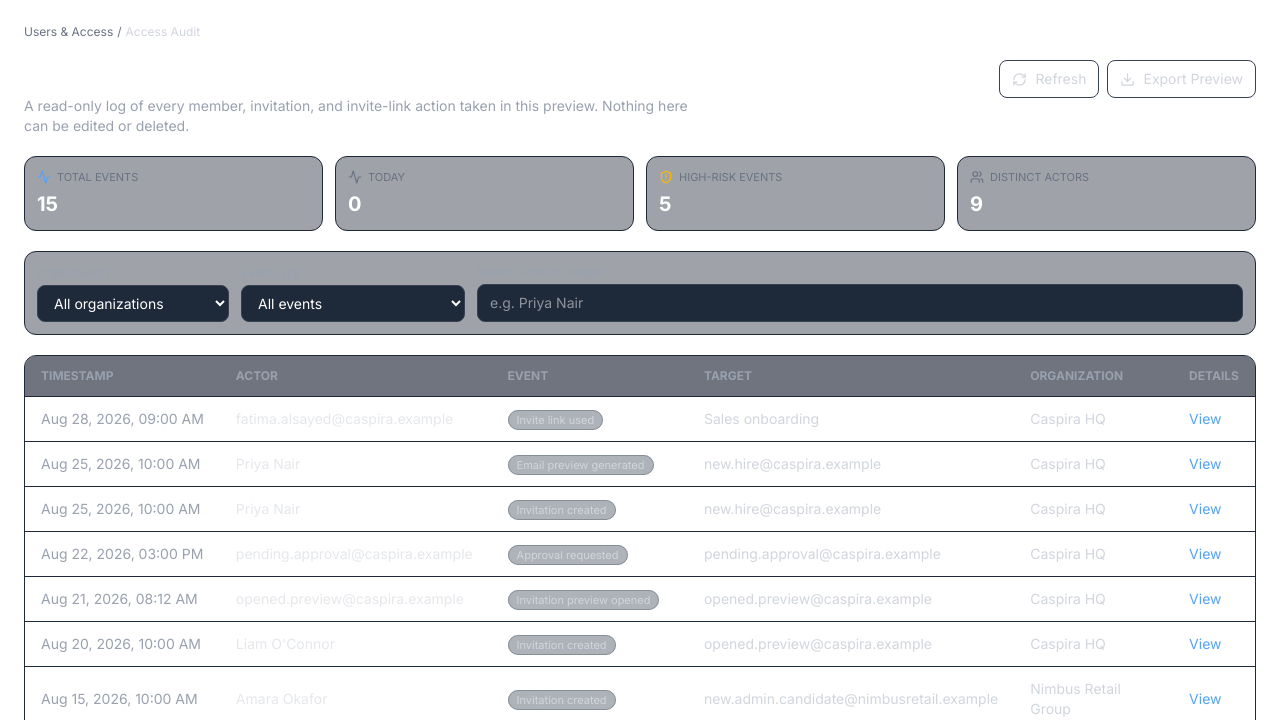
Test: AccessAudit › filters by event type
The image size is (1280, 720).
Select "Member suspended" in the dropdown labelled "Event type" at {"x": 353, "y": 303}, box left=241, top=284, right=465, bottom=322
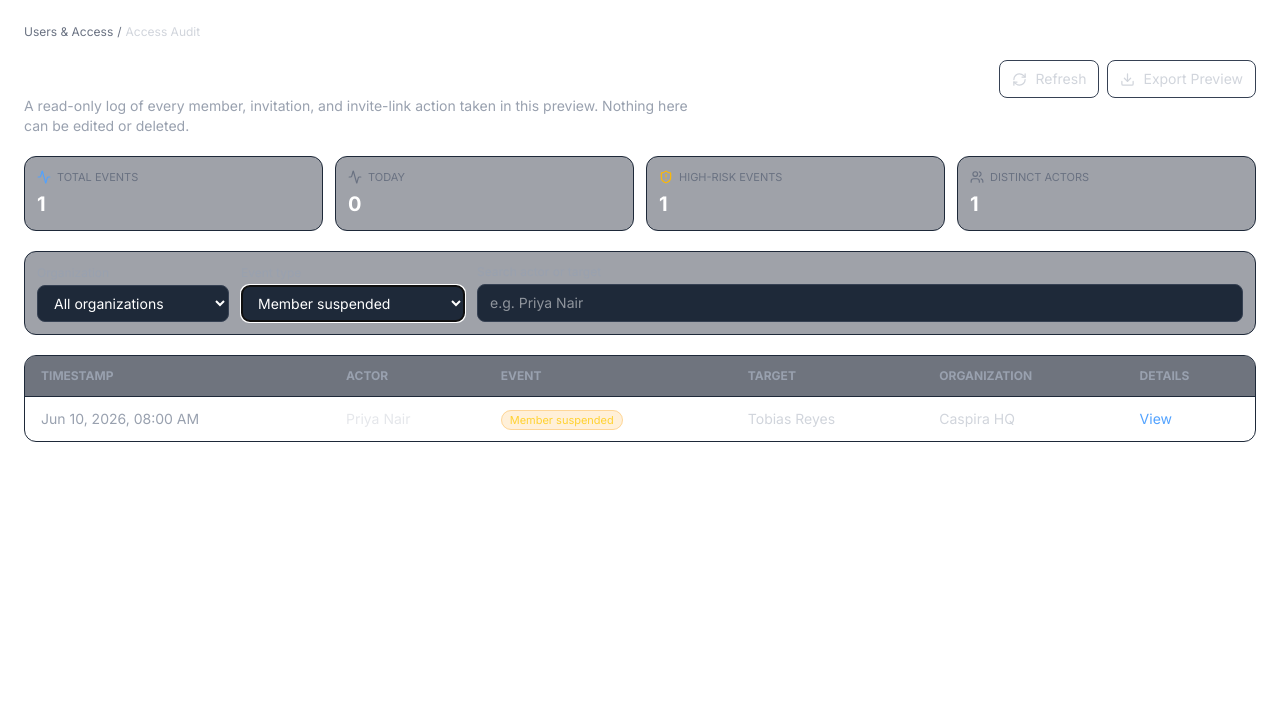
Expected: the text "Tobias Reyes" is shown, left=732, top=396, right=923, bottom=440
Result: the text "new.hire@caspira.example" is not shown
